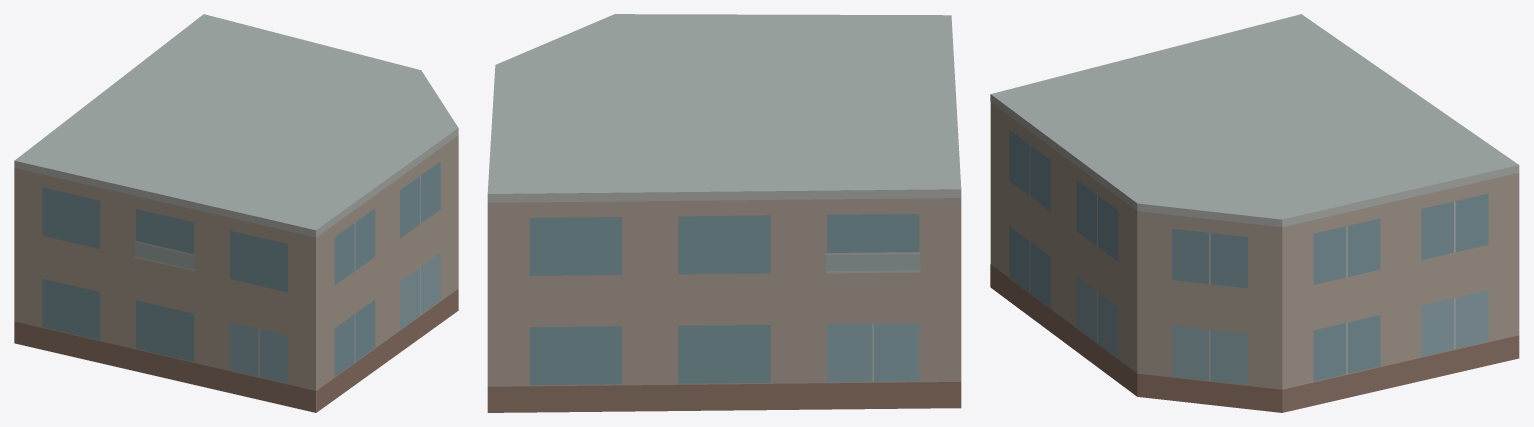
File: survey-upis-32862902.glb
3 views of the same model, side by side, from view 1: azimuth 30°, elevation 25°; view 2: azimuth 150°, elevation 25°; view 3: azimuth 270°, elevation 25° (orthographic). The views are drawn at different scales.
Parts seen in each view (by area): view 1: survey-upis-32862902.tmp; view 2: survey-upis-32862902.tmp; view 3: survey-upis-32862902.tmp.
Boxes of the visible parts, x1,y1,x2,y2 form: survey-upis-32862902.tmp: (14,14,458,412); survey-upis-32862902.tmp: (487,14,961,412); survey-upis-32862902.tmp: (990,14,1519,412).
Size of the model in its own units: 13.92 by 6.1 by 15.13.
